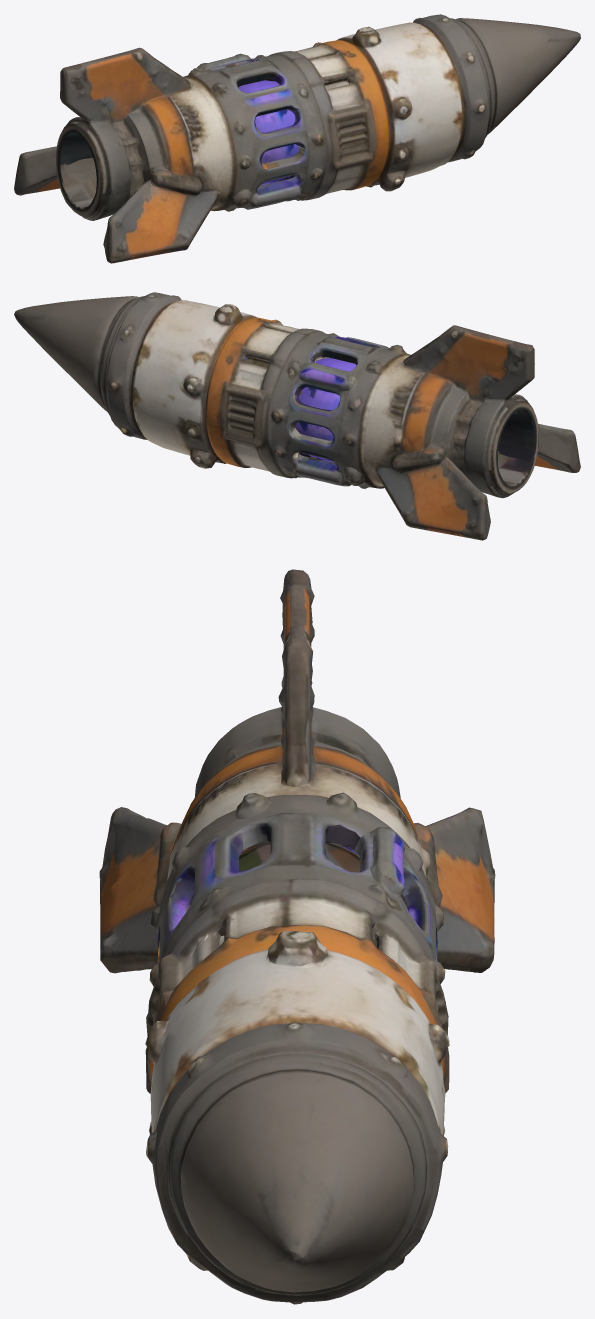
The model's file is prism-missile.glb.
The picture shows the model from 3 angles, top to bottom: view 1: azimuth 30°, elevation 25°; view 2: azimuth 150°, elevation 25°; view 3: azimuth 270°, elevation 25°; orthographic projection. The views are drawn at different scales.
Visible parts, largest first — view 1: tmp07yz_7w9.ply; view 2: tmp07yz_7w9.ply; view 3: tmp07yz_7w9.ply.
Part boxes in pixels (left/top/right/bottom): tmp07yz_7w9.ply: left=14, top=14, right=580, bottom=263; tmp07yz_7w9.ply: left=14, top=292, right=580, bottom=540; tmp07yz_7w9.ply: left=99, top=569, right=495, bottom=1304.
Size of the model in its own units: 1.99 by 0.7106 by 0.6604.
1 material, 1 textured.
